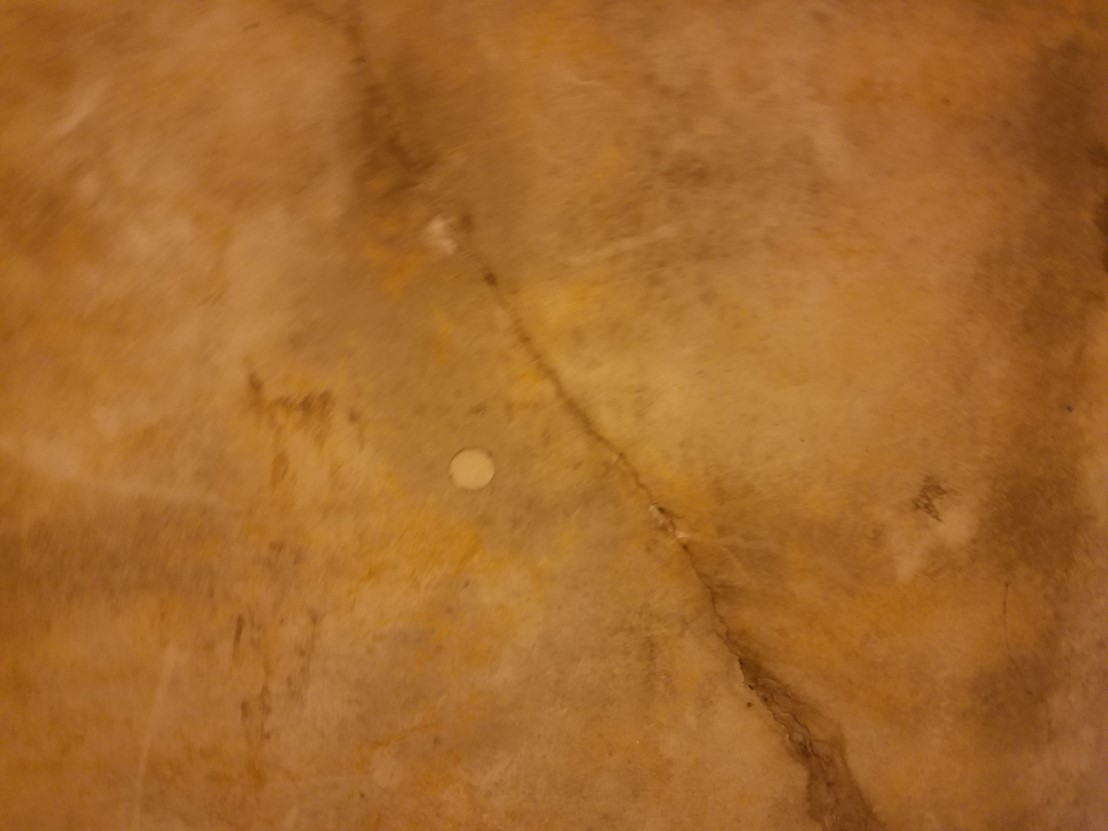Crack: (284, 0, 888, 831), (976, 560, 1072, 747)
